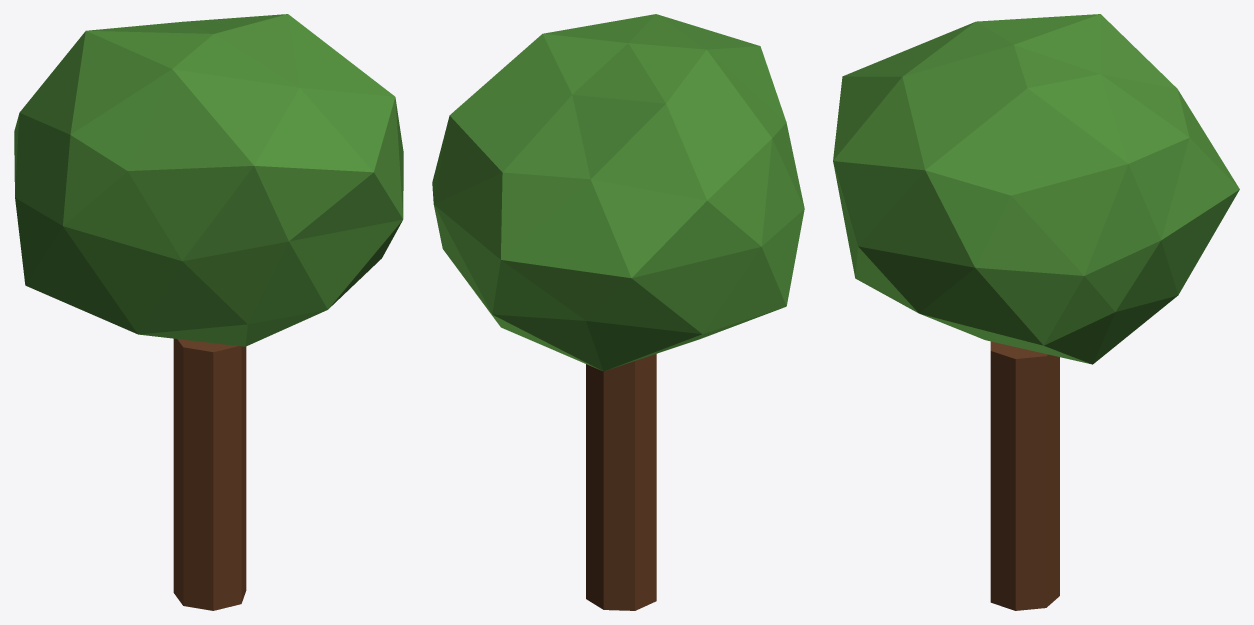
The model's file is tree_round.glb.
3 views of the same model, side by side, from view 1: azimuth 30°, elevation 25°; view 2: azimuth 150°, elevation 25°; view 3: azimuth 270°, elevation 25° (orthographic). The views are drawn at different scales.
Parts seen in each view (by area): view 1: Cylinder; view 2: Cylinder; view 3: Cylinder.
Boxes of the visible parts, <box> form: Cylinder: <box>14,14,403,610</box>; Cylinder: <box>432,14,804,610</box>; Cylinder: <box>833,14,1239,610</box>.
Size of the model in its own units: 1.35 by 2.11 by 1.41.
